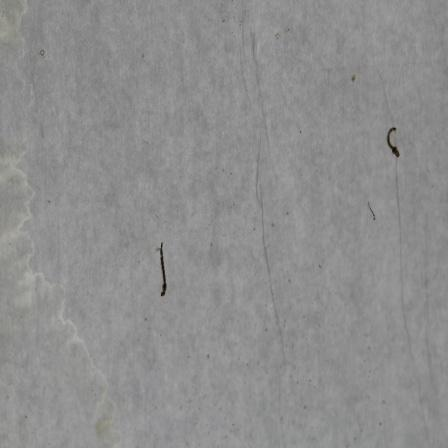Jentik-Nyamuk: (154, 240, 172, 301), (385, 124, 405, 161)
